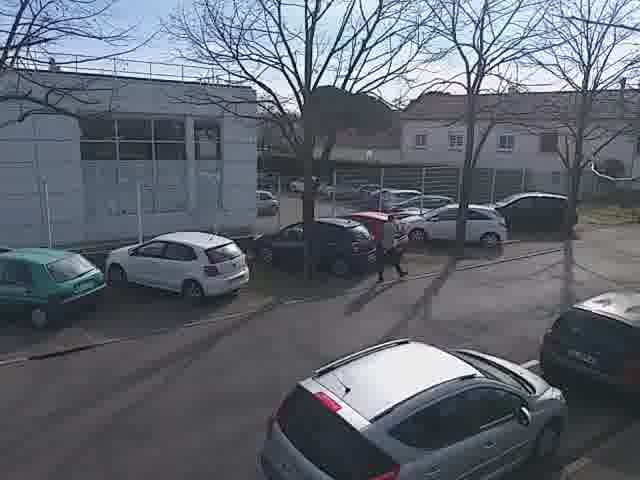persona: (373, 206, 408, 286)
